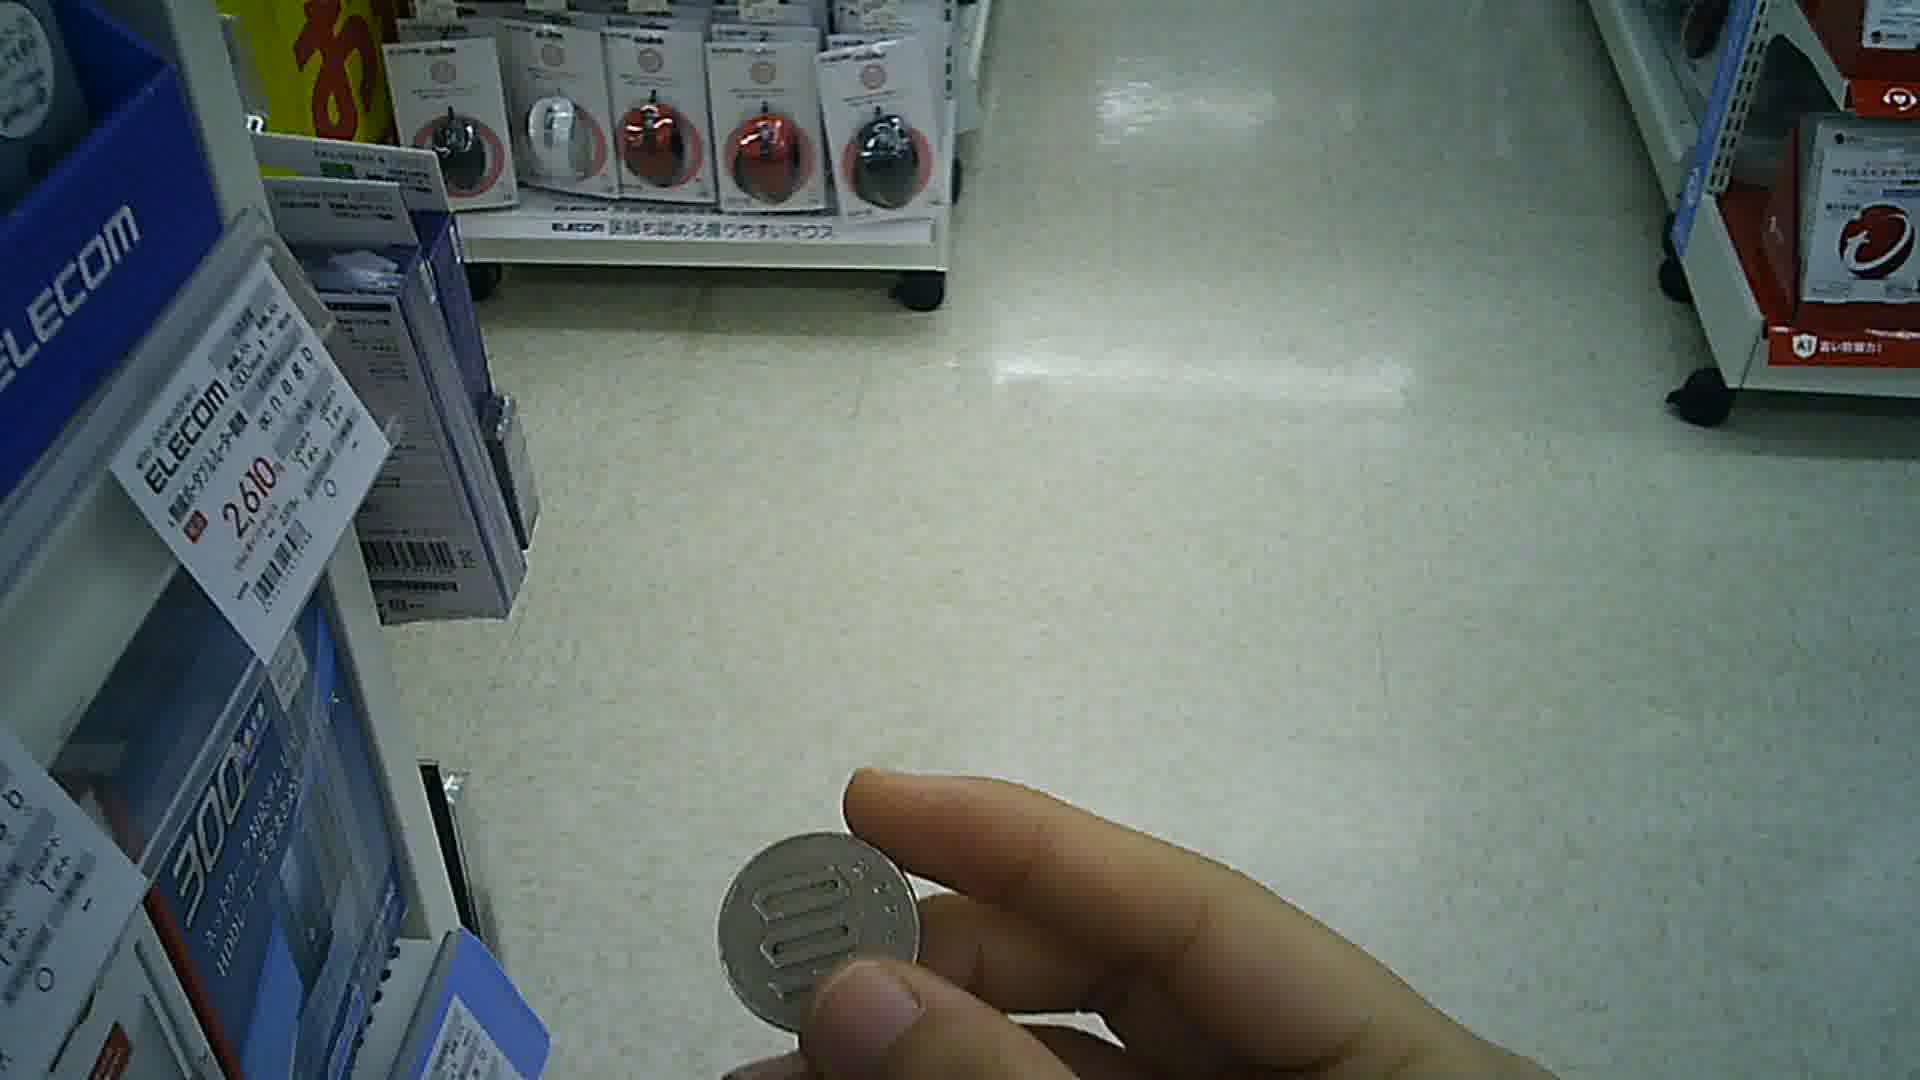100 Yen: (712, 825, 926, 1036)
